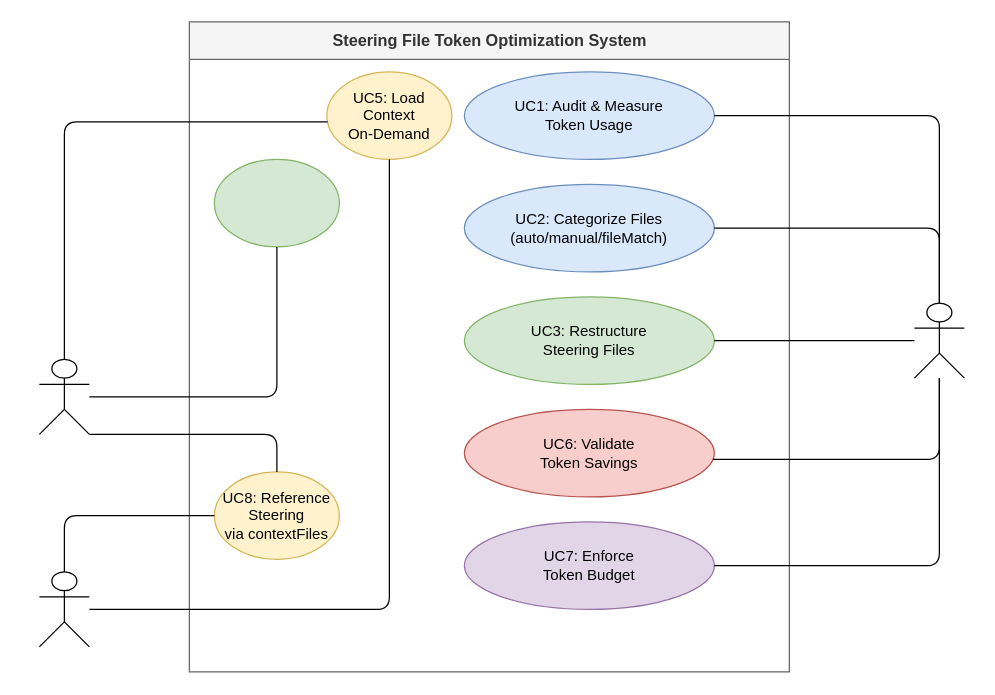
The diagram is 995 pixels wide and 695 high, and some of its shapes have lost their labels. Here are the shapes that lost their labels. From the top down, the centre of each, then its label:
point 276,202: UC4: Deduplicate Shared Rules
point 938,340: Developer
point 63,396: AI Agent
point 63,609: Kiro Platform
